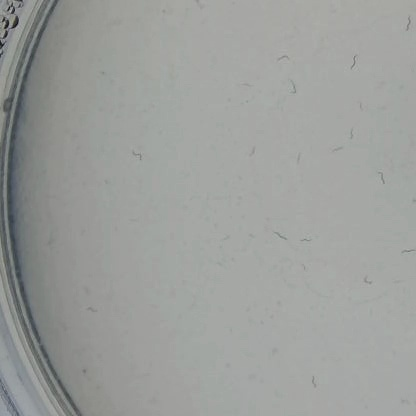worm: (295, 233, 314, 255), (129, 144, 146, 165), (346, 51, 360, 74), (308, 369, 322, 392), (360, 272, 376, 290), (376, 163, 386, 191), (269, 230, 290, 243), (397, 244, 416, 258), (403, 12, 414, 36), (274, 52, 293, 65), (190, 0, 209, 12), (292, 151, 304, 169), (332, 140, 342, 161), (289, 77, 299, 97), (398, 396, 413, 409), (82, 305, 103, 314), (237, 80, 254, 91), (347, 126, 356, 144), (246, 145, 258, 158), (357, 99, 366, 114)
